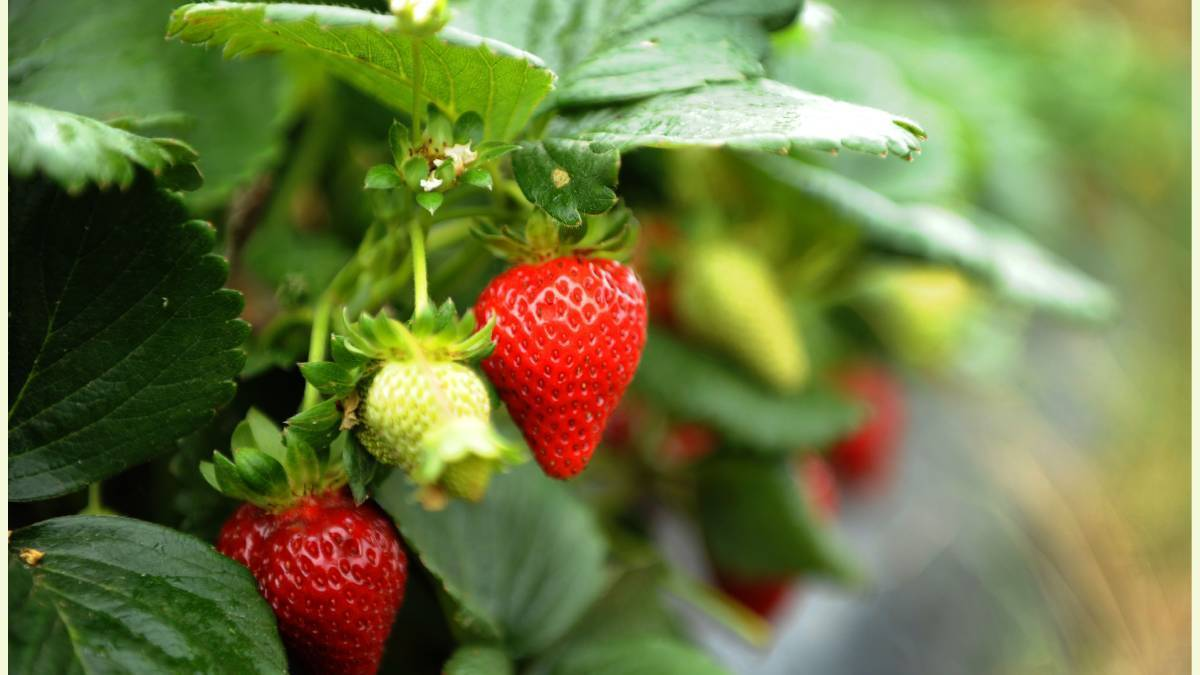ripe: (469, 246, 649, 482), (260, 477, 415, 667), (207, 483, 309, 572)
unripe: (337, 342, 519, 511)
